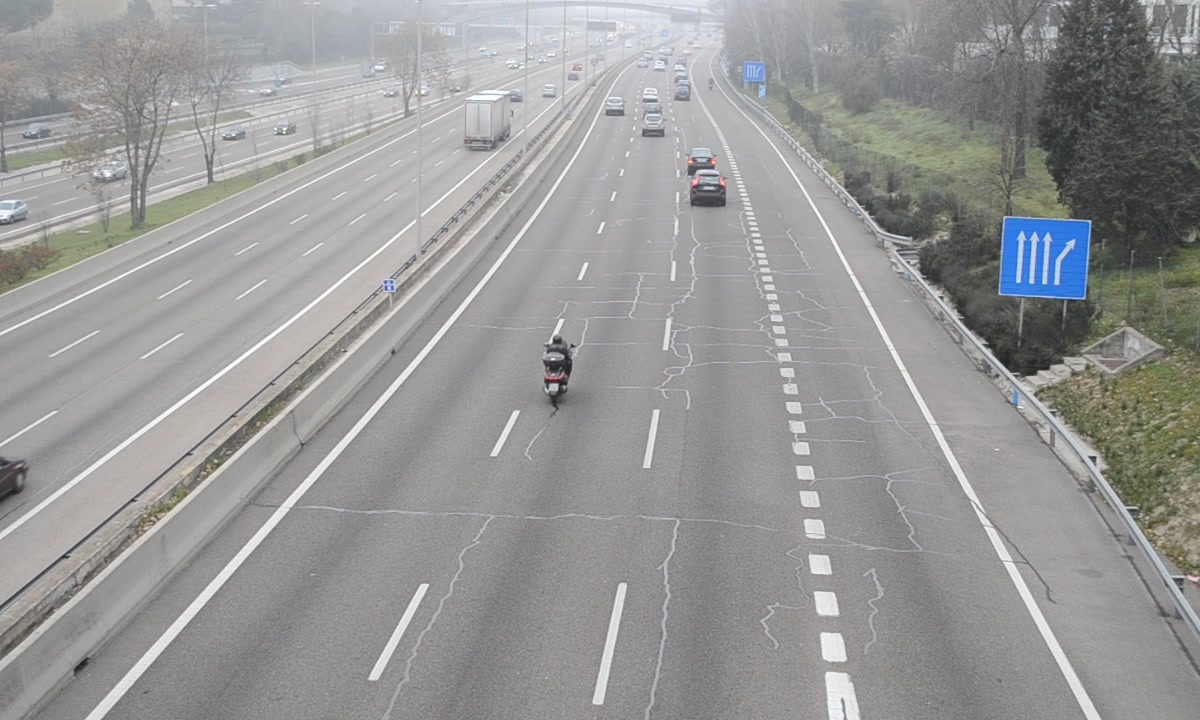car: (690, 170, 726, 204), (686, 146, 716, 172)
motorcycle: (540, 334, 576, 409)
